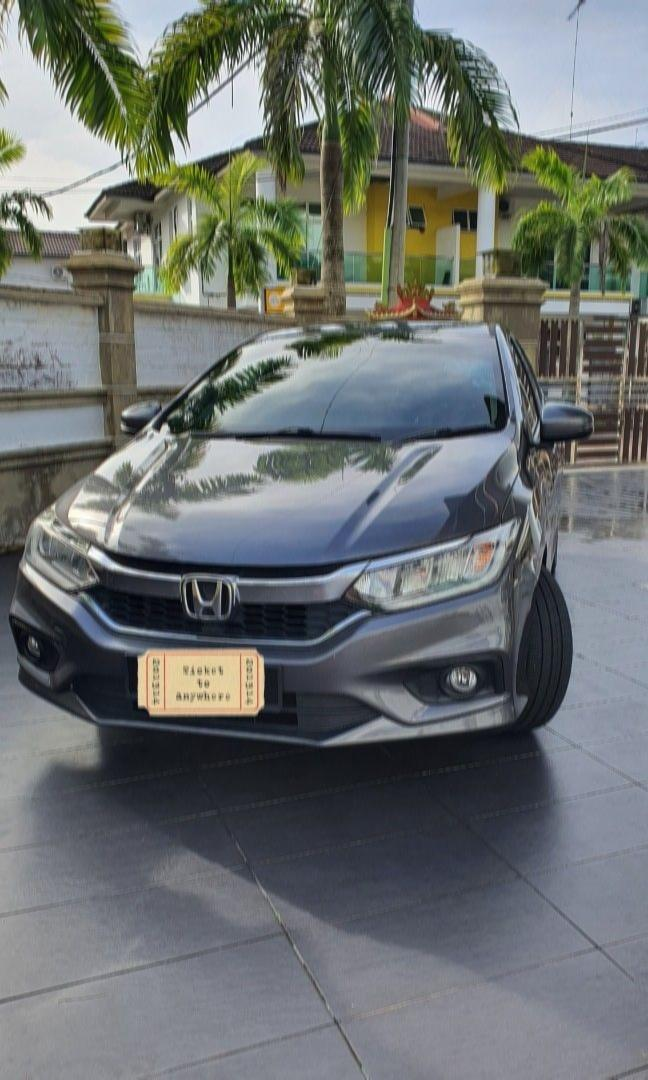Car hood: (48, 428, 520, 568)
Front bumper: (8, 583, 525, 748)
Headlight - -L-: (340, 511, 525, 619)
Headlight - -R-: (21, 497, 110, 598)
Side mirror - -L-: (535, 397, 606, 452)
Side mirror - -R-: (115, 388, 170, 438)
